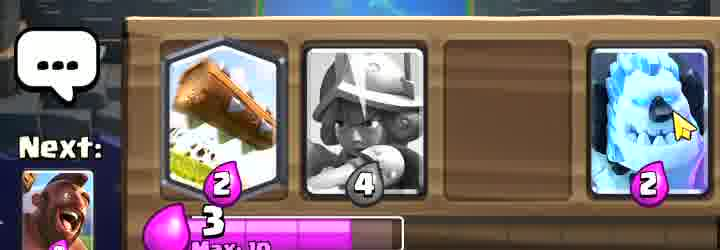hog-rider: (23, 171, 93, 250)
ice-golem: (591, 49, 706, 198)
log: (168, 43, 281, 188)
